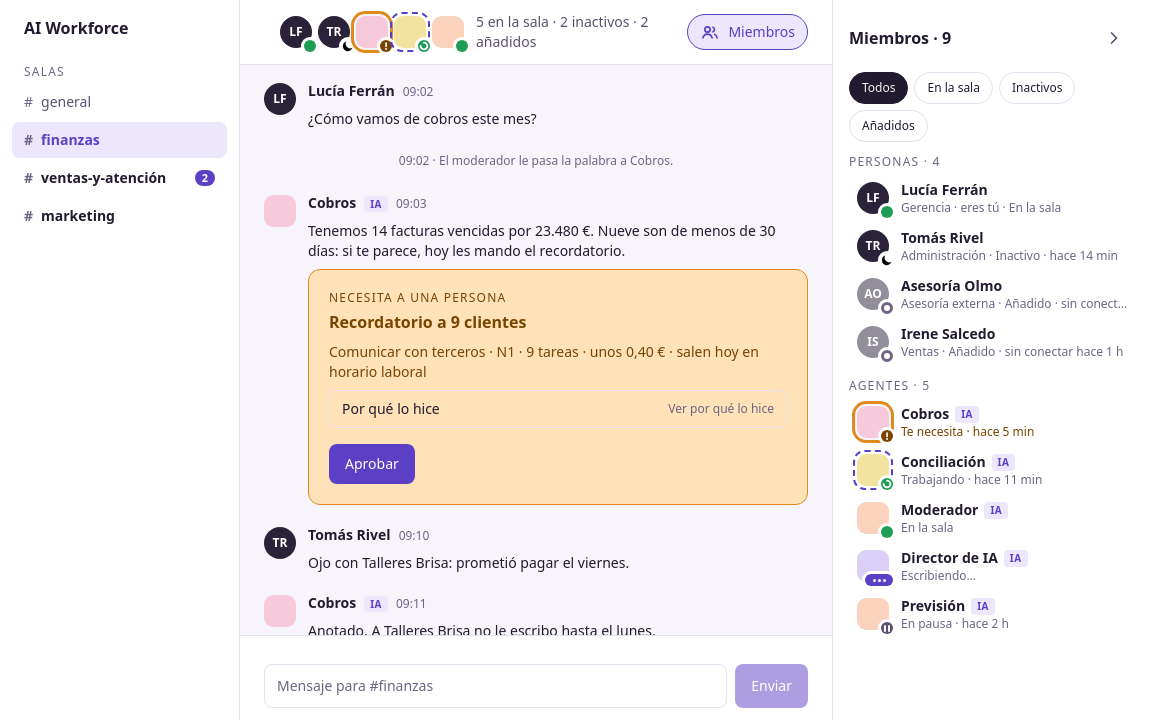
Scenario: VistaDeSalaV1 › cambia de sala sin recargar, marca la actual y avisa de la escritura propia
Click the link with test id "sala-marketing" at (90, 220), box [23,206,156,234]
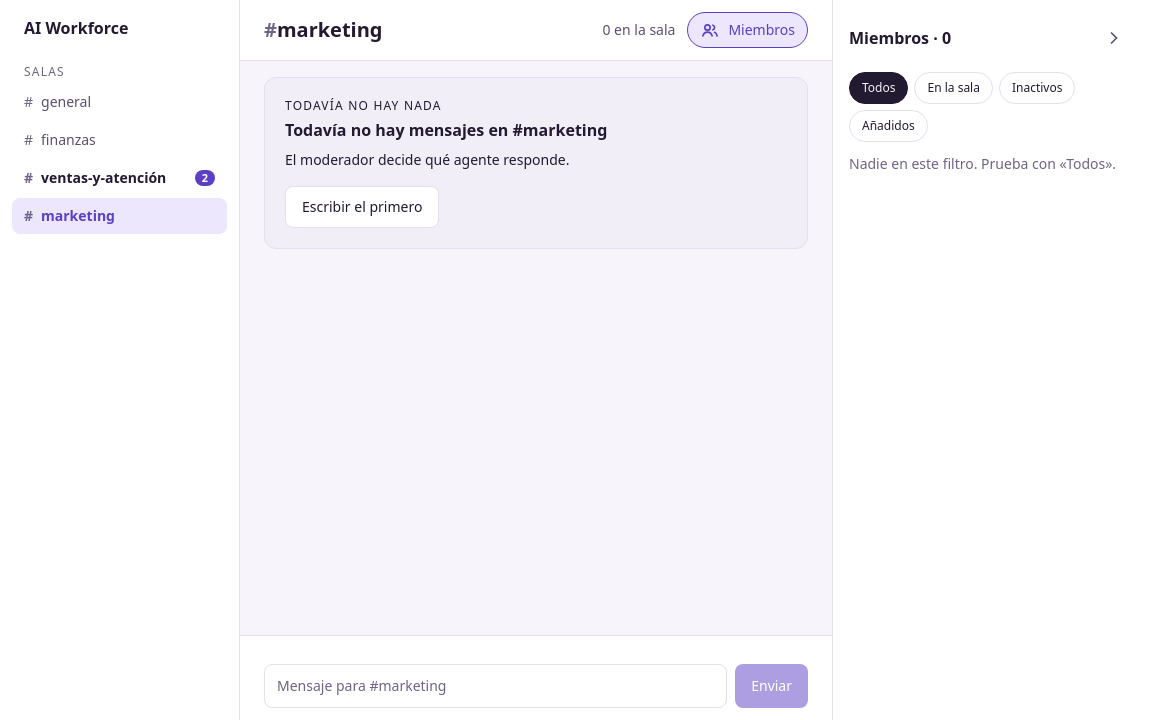
Result: the heading "#marketing" is shown at [264,16,382,43]
Result: the heading "Todavía no hay mensajes en #marketing" is shown at [285,119,607,141]
Type "Hola" into the field labelled "Mensaje para #marketing" at (496, 686), box [264,664,727,708]
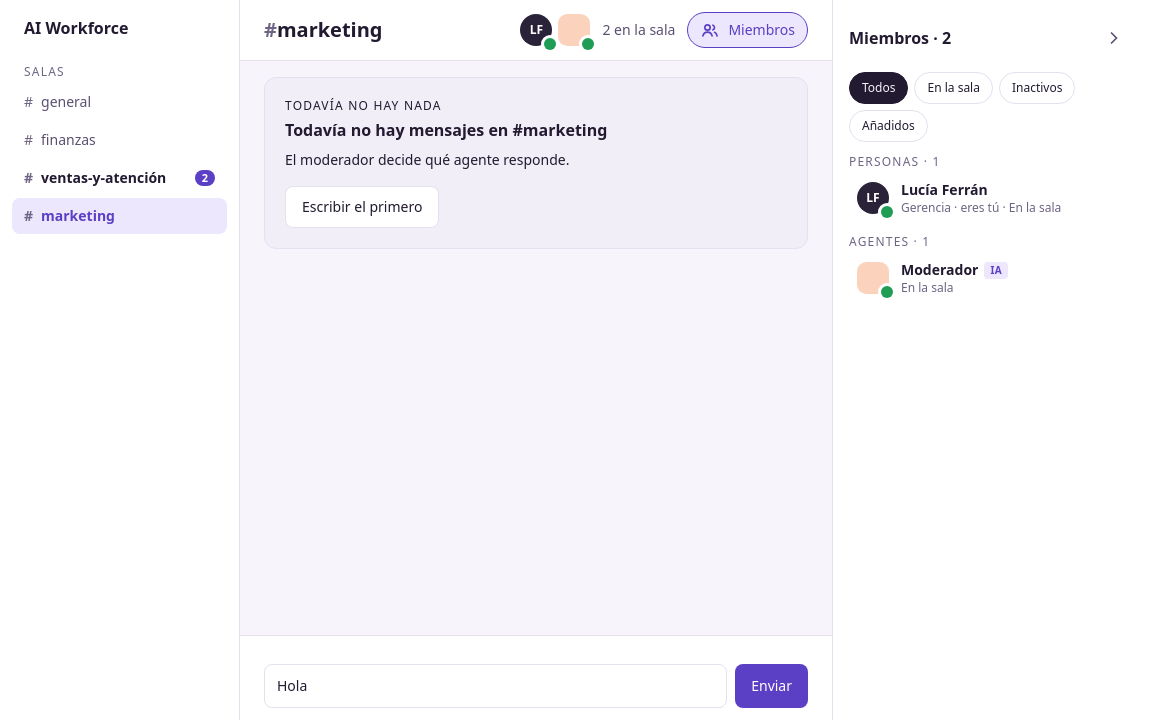
Submit the form named "Mensaje para #marketing", box [264,664,808,708]
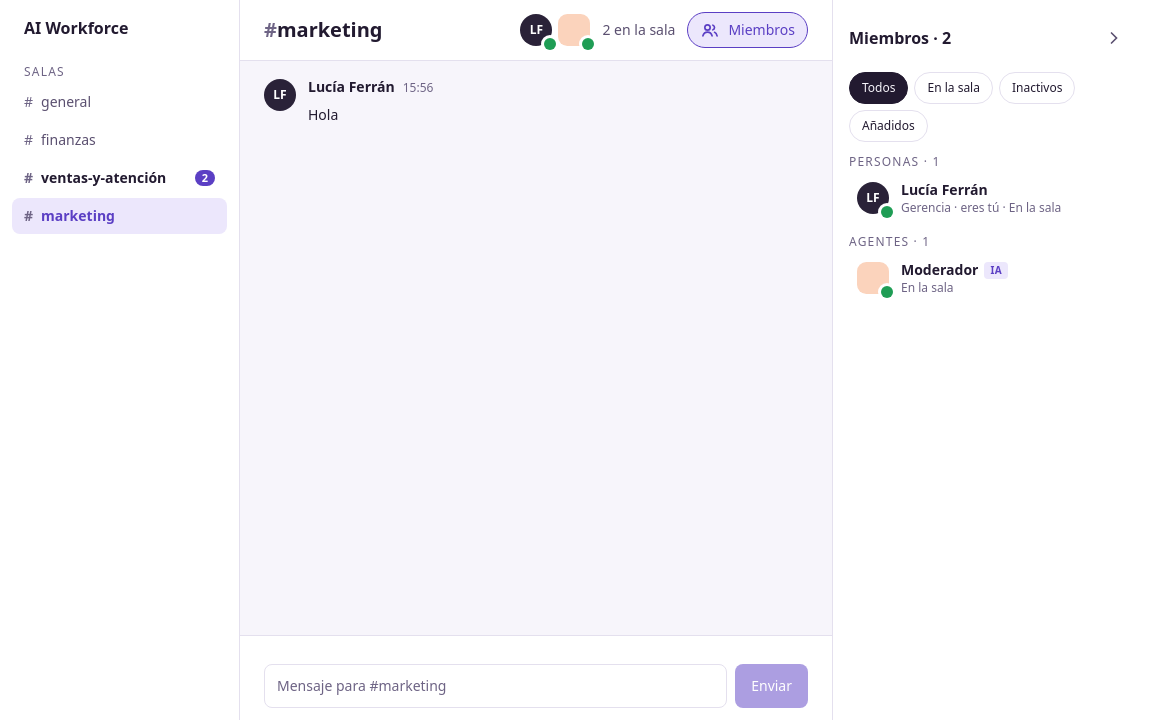
Result: the text "Hola" is shown at [308,105,338,124]
